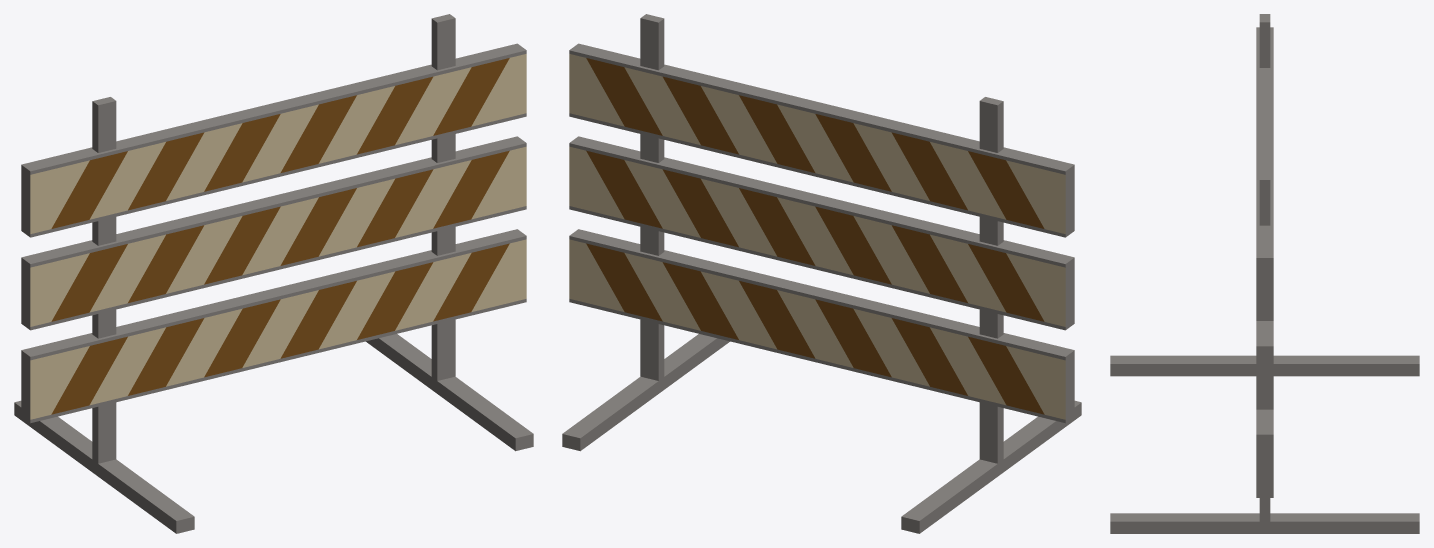
The model's file is prop_trafficbarrier_1.glb.
3 views of the same model, side by side, from view 1: azimuth 30°, elevation 25°; view 2: azimuth 150°, elevation 25°; view 3: azimuth 270°, elevation 25° (orthographic). The views are drawn at different scales.
Parts seen in each view (by area): view 1: TrafficBarrier_1; view 2: TrafficBarrier_1; view 3: TrafficBarrier_1.
Part boxes in pixels (x1,y1,x2,y2): TrafficBarrier_1: (14,14,533,533); TrafficBarrier_1: (562,14,1081,533); TrafficBarrier_1: (1110,14,1419,533).
Bounding box in the file's own units: 1.56 × 1.11 × 0.8806.
Materials: 1 (1 with a texture image).
